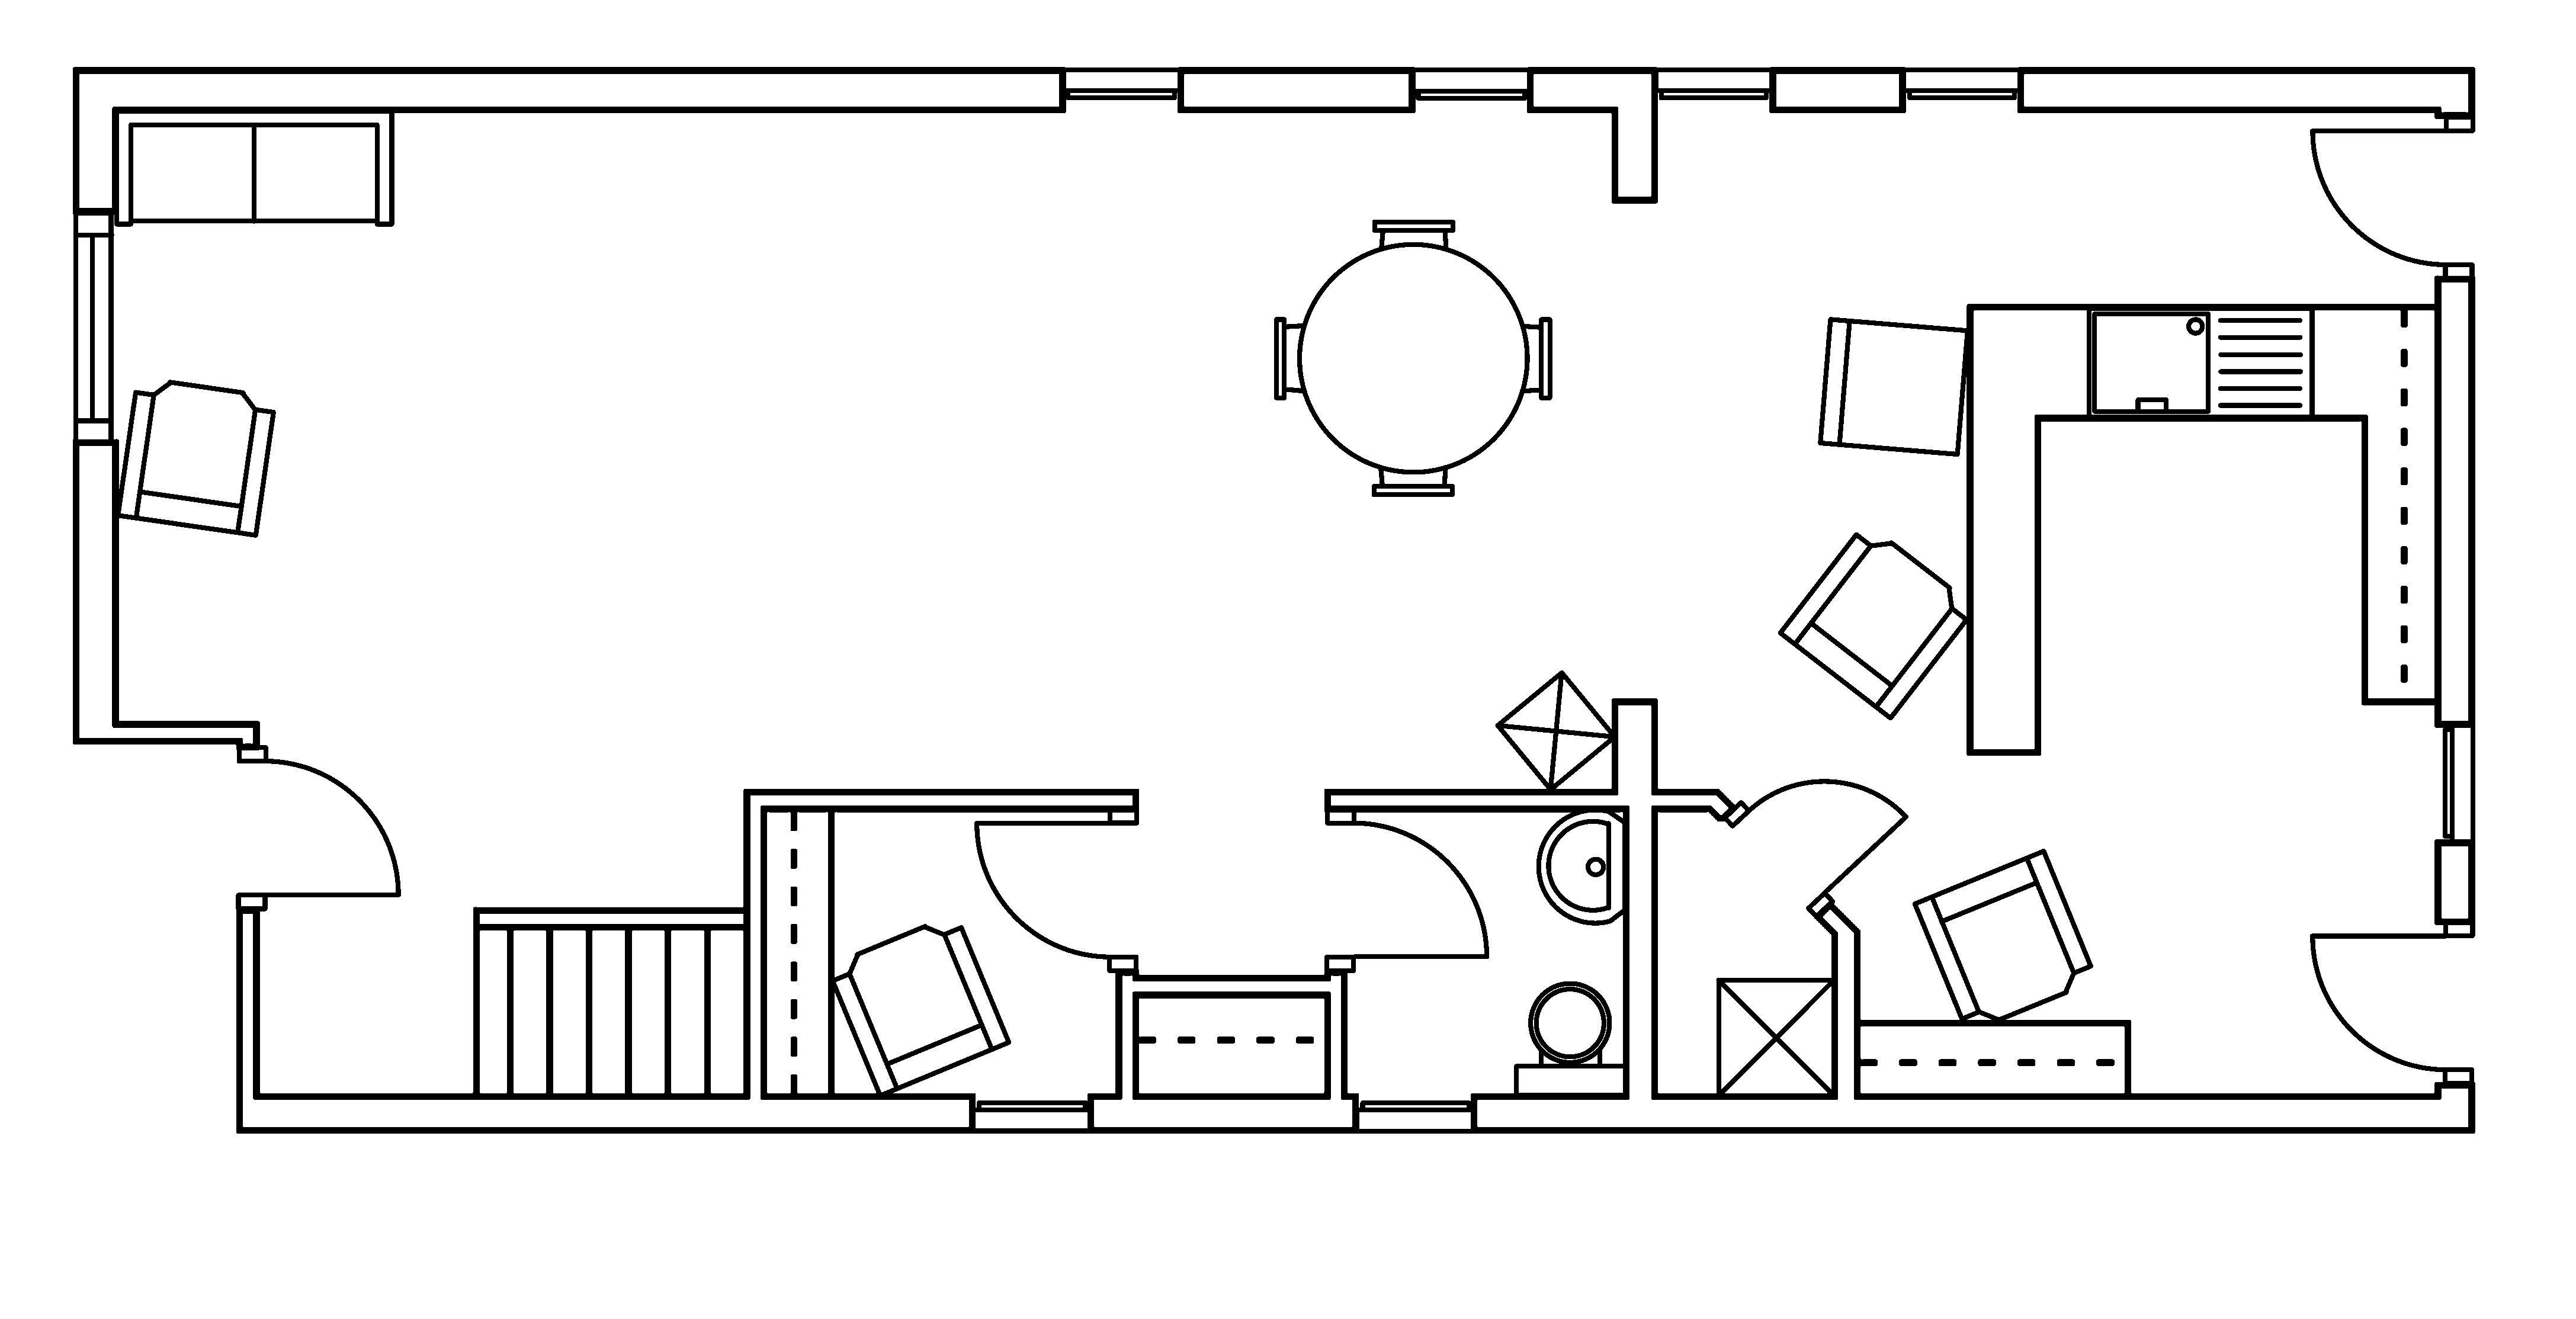armchair: (1776, 530, 1969, 720), (829, 922, 1011, 1099), (1912, 848, 2093, 1023), (114, 379, 276, 538)
coffee_table: (1493, 670, 1618, 792), (1715, 976, 1836, 1099)
large_sink: (1513, 981, 1628, 1097)
large_sofa: (113, 108, 395, 227)
round_table: (1273, 219, 1552, 496)
sink: (2085, 305, 2314, 421)
small_sink: (1535, 808, 1628, 925)
small_sofa: (1816, 316, 1971, 456)
